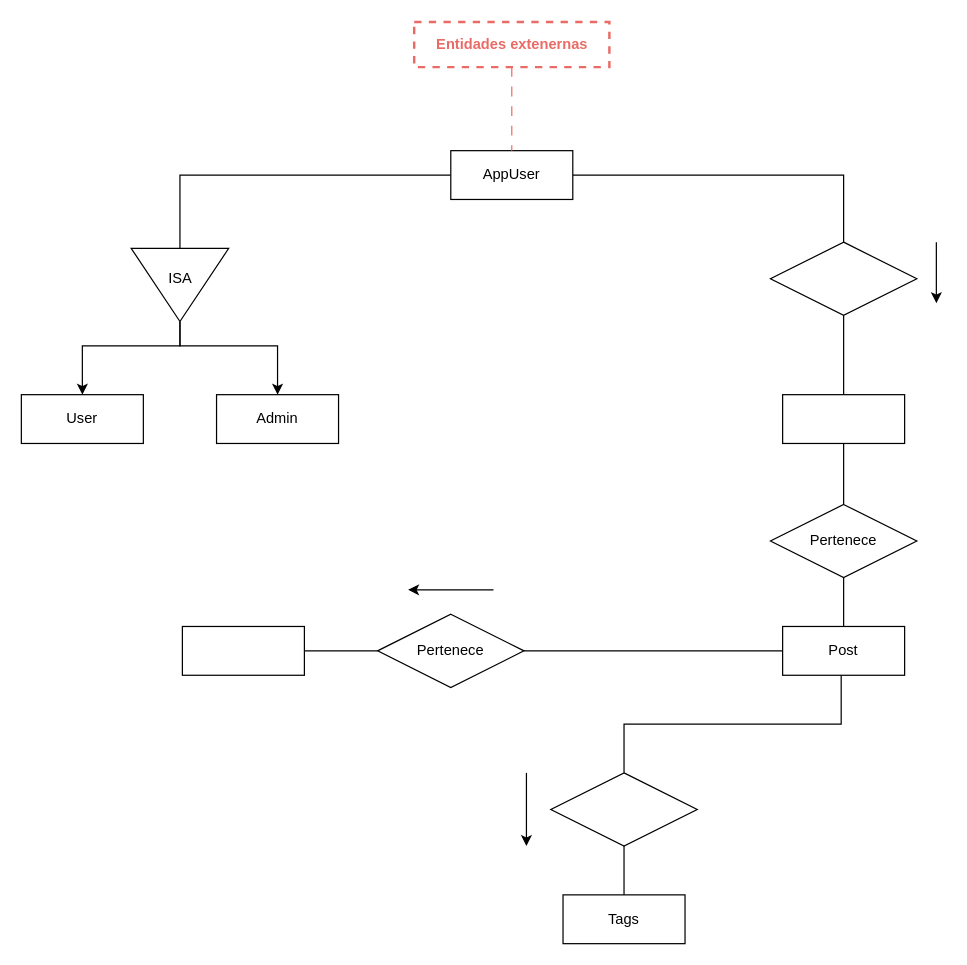
Image size: 967x965. Some labels were removed from this diagram. Here are the shapes that lost their labels. From the top down, the box of each, then its label:
(769, 241, 917, 315): Publica
(781, 393, 905, 443): Comment
(181, 625, 304, 675): Category
(550, 772, 697, 846): Cuenta
